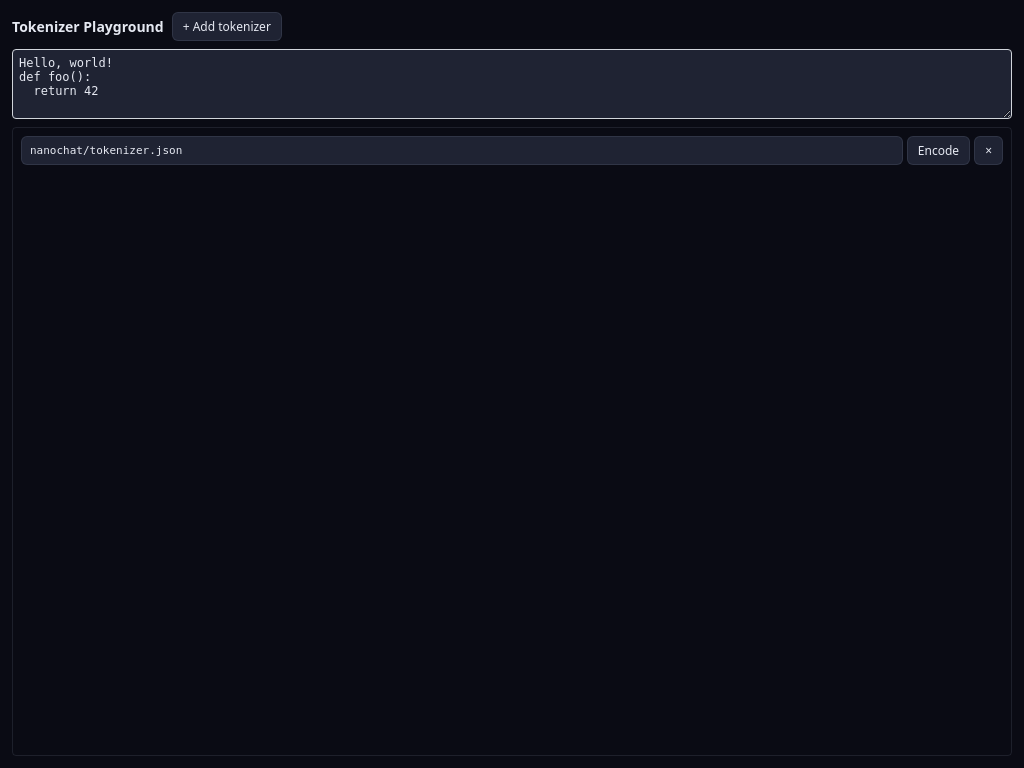
Test: V7-H46 TokenizerPlayground roundtrip-check › renders mismatch + byte-diff when backend reports matches=false
Click the button with test id "tokenizer-encode-0" at (939, 150), box [907,136,970,165]
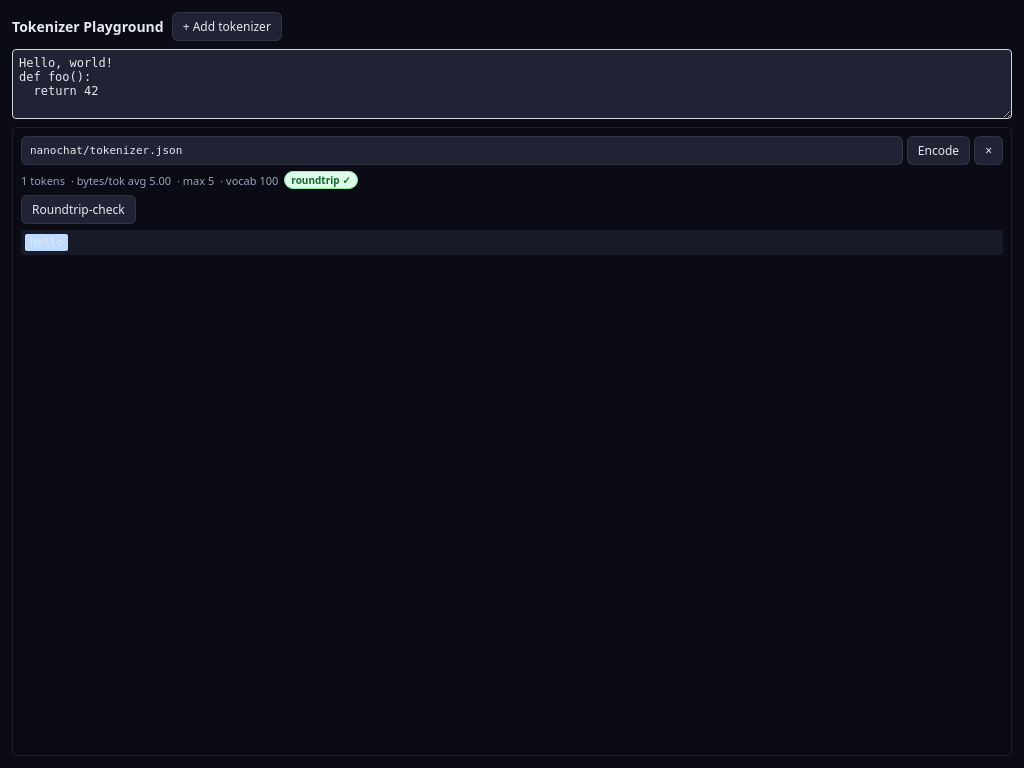
Expected: the button with test id "tokenizer-roundtrip-run-0" is shown
Click the button with test id "tokenizer-roundtrip-run-0" at (78, 210), box [21,195,136,224]
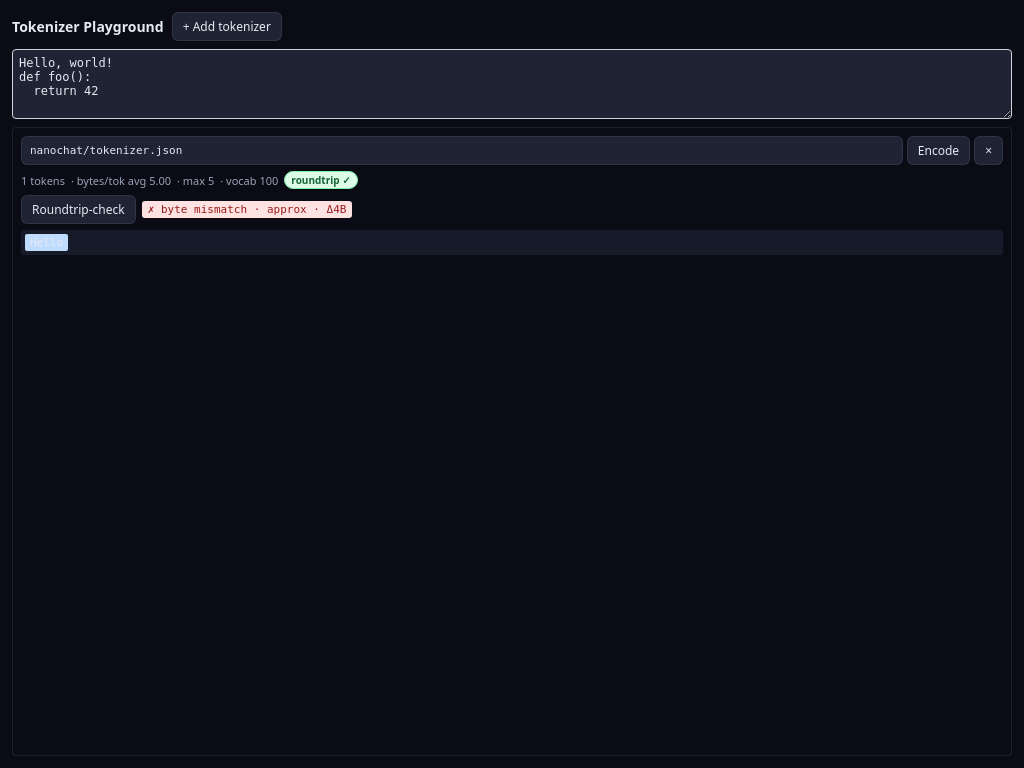
Expected: the text with test id "tokenizer-roundtrip-badge-0" shows "byte mismatch", [148,203,247,216]
Expected: the text with test id "tokenizer-roundtrip-badge-0" shows "Δ4B", [307,203,346,216]
